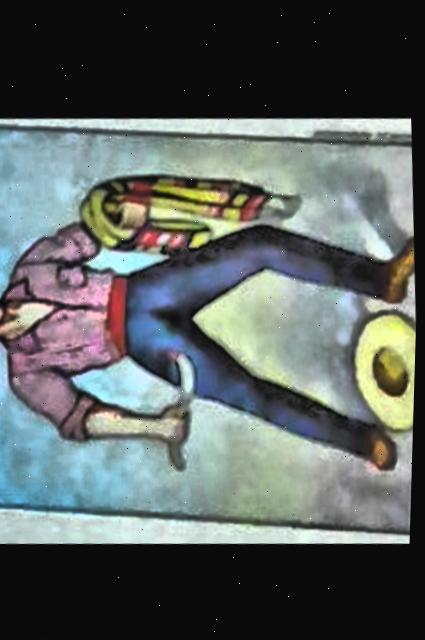El Valiente: (0, 128, 418, 531)
